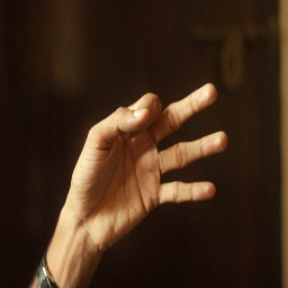K: (68, 81, 227, 232)
